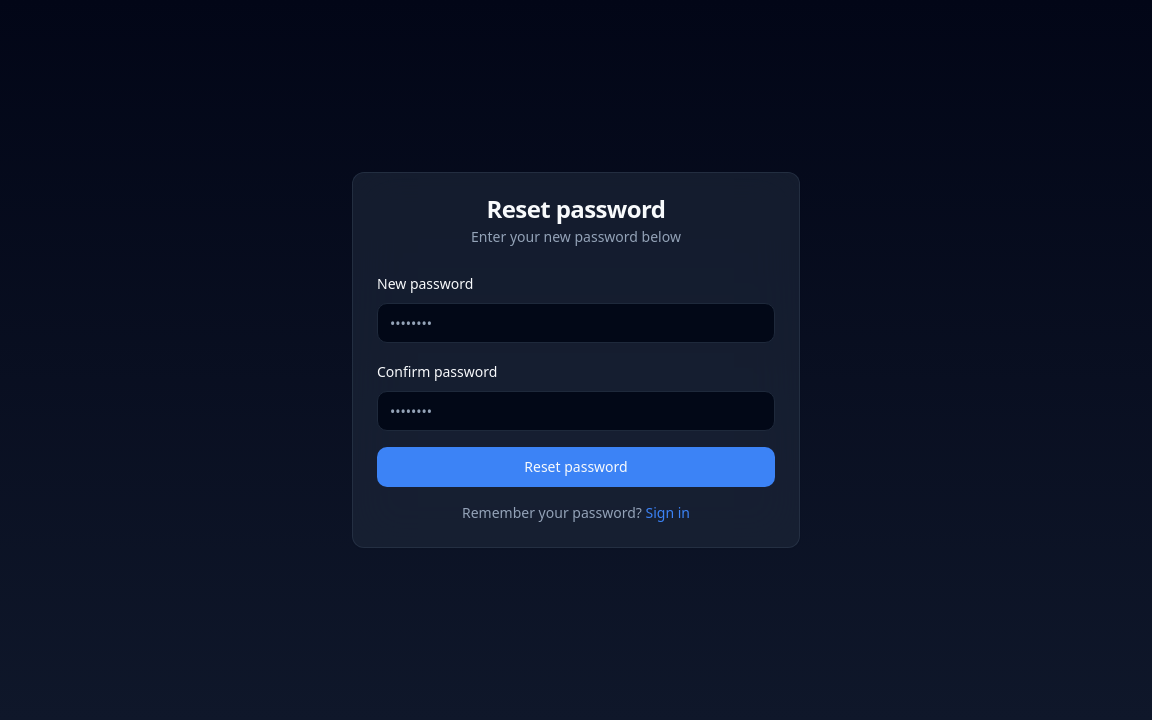
ResetPasswordPage › client-side validation › shows error for password without uppercase
Type "lowercase1" into the password field labelled "New password" at (576, 323), box [377,303,775,343]
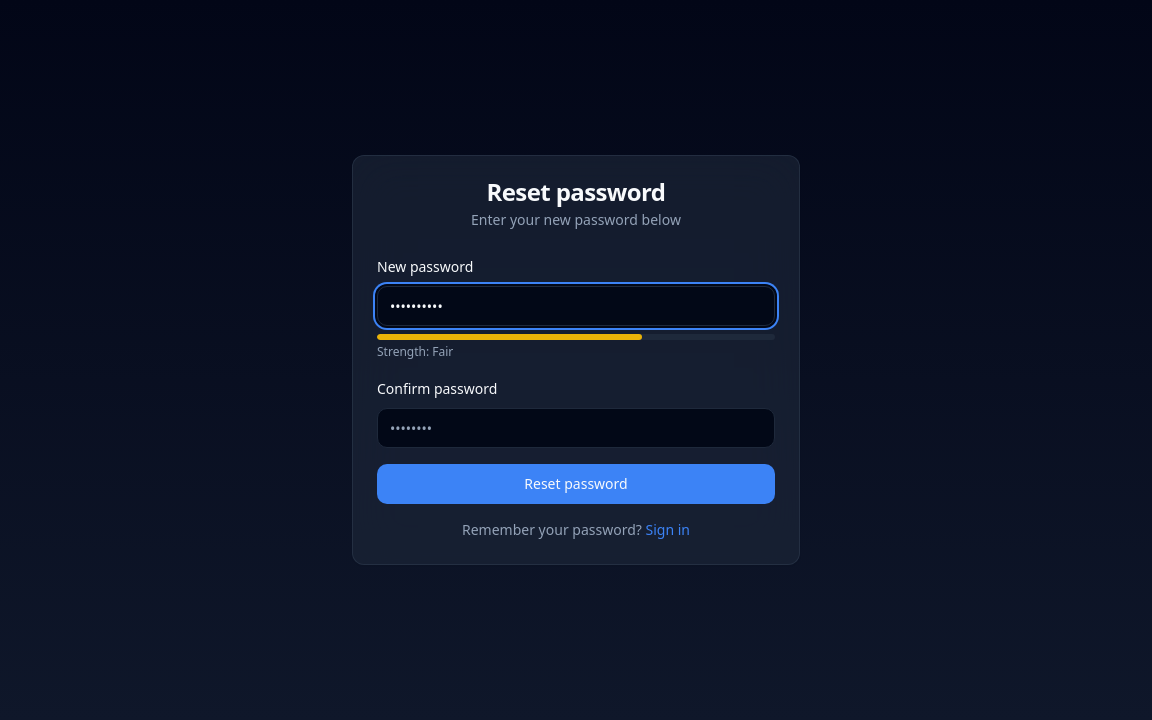
Type "lowercase1" into the password field labelled "Confirm password" at (576, 428), box [377,408,775,448]
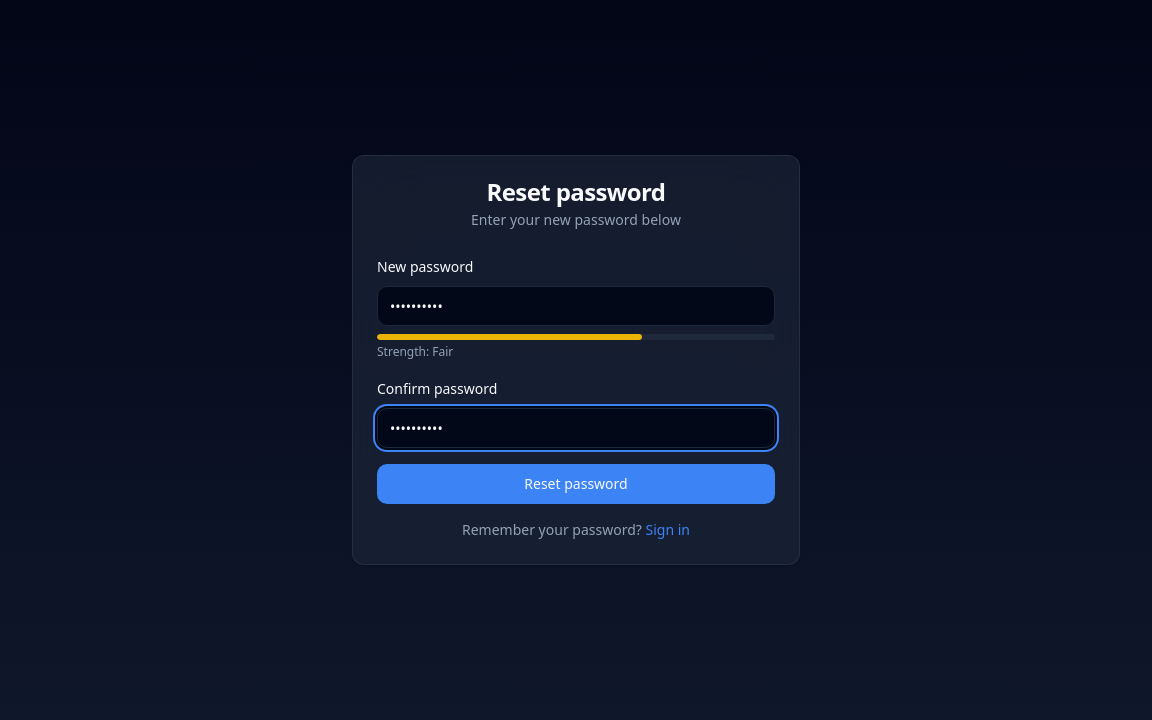
Click the button "Reset password" at (576, 484), box [377,464,775,504]
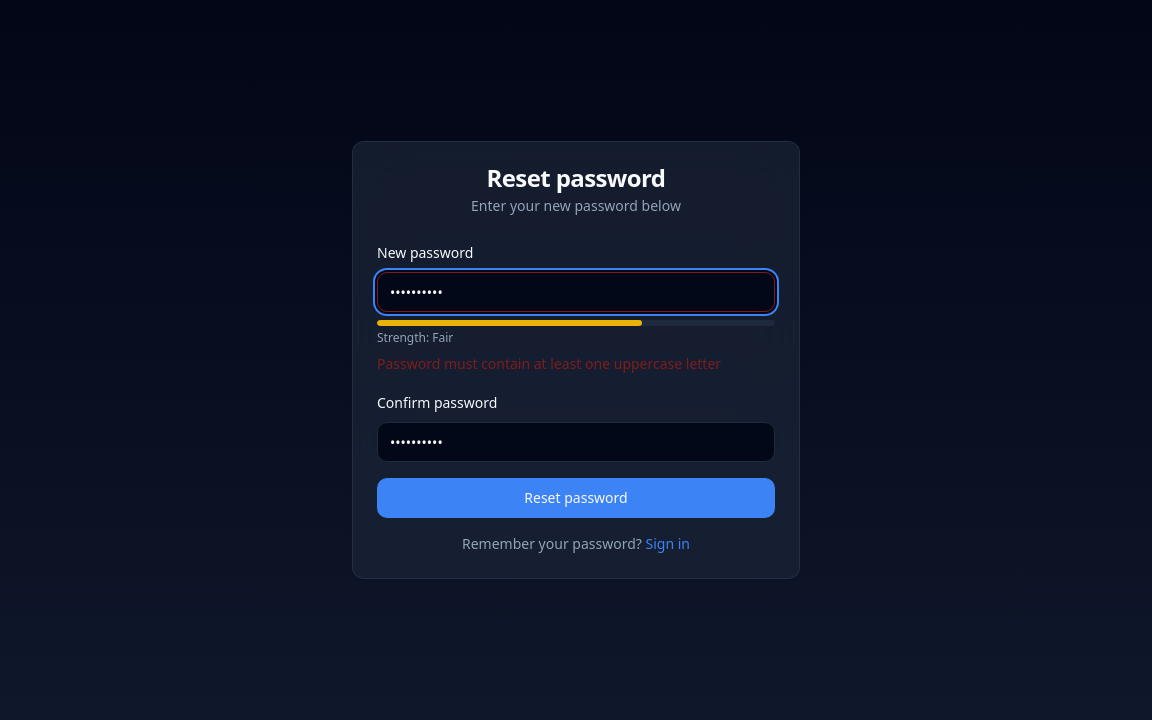
Expected: the text "Password must contain at least one uppercase letter" is shown, [377,354,775,374]
